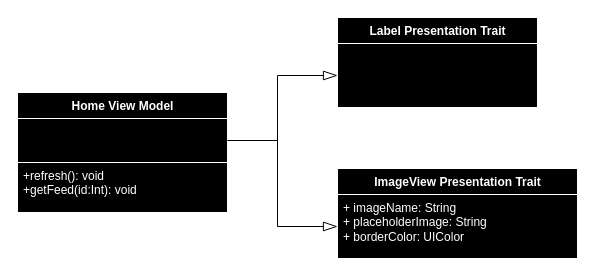
Image size: 595x279. Some labels were removed from this diagram. The shapes that lost their labels are listed below. From the top down, each one's box as (x1, y1, x2, y2) in pixels, then its label:
(336, 42, 538, 108): + font: UIFont + textColor: UIColor + backgroundColor: UIColor
(16, 118, 228, 162): + feeds: HomeModel[0...*] +delegate: HomeControllerDelegate
